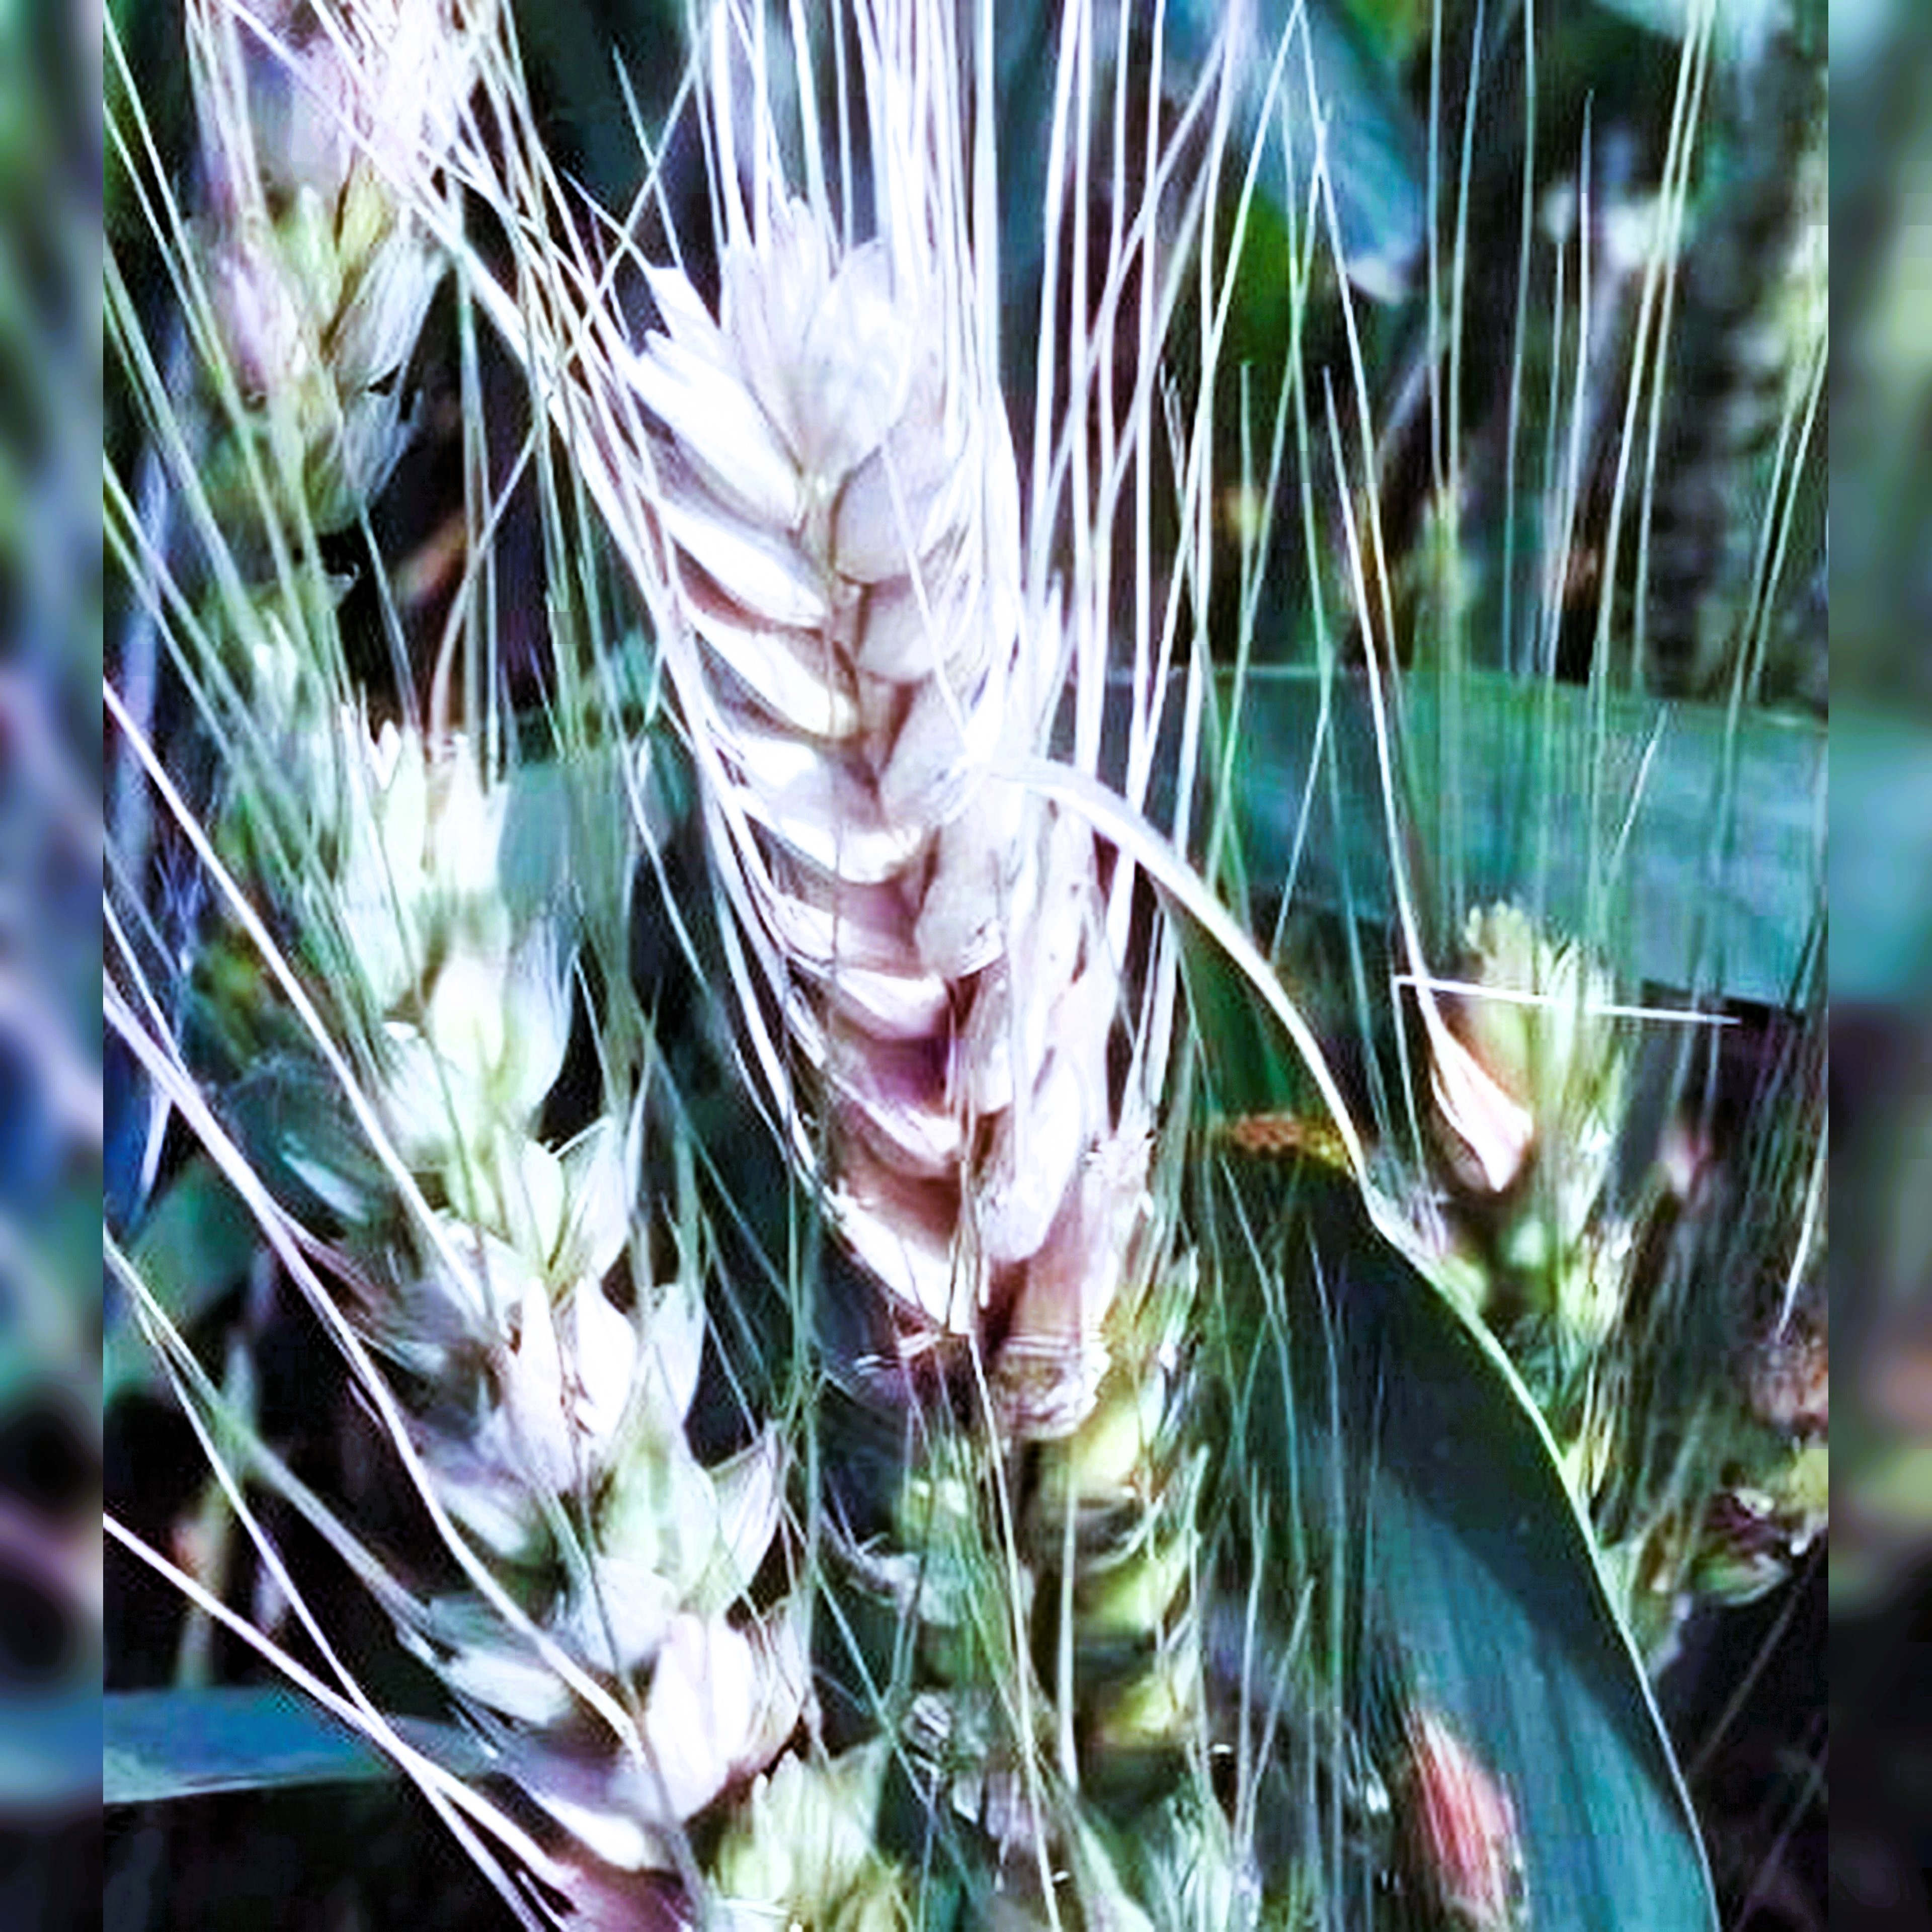Wheat scab: (794, 874, 1267, 1727)
